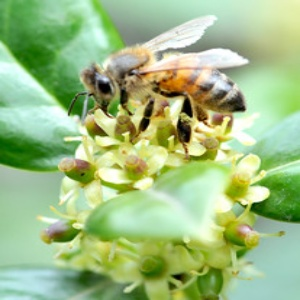bee: (81, 16, 254, 126)
